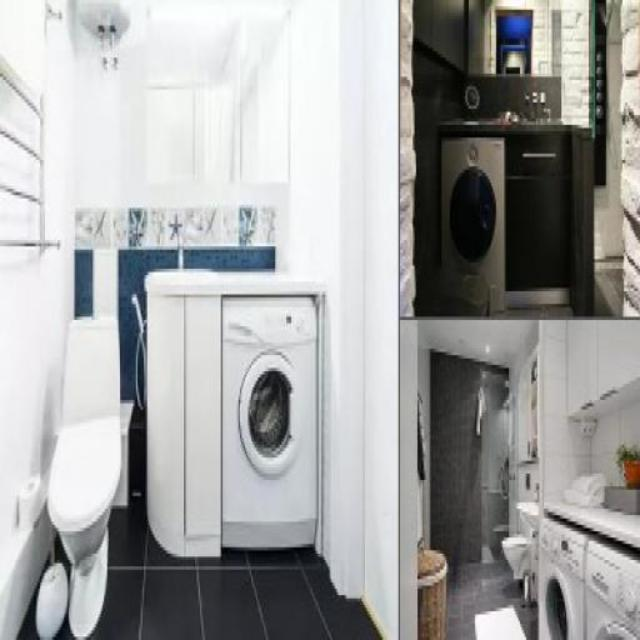Washing-Machine: (223, 281, 324, 567), (446, 128, 508, 312), (538, 519, 584, 639), (586, 539, 638, 639)
